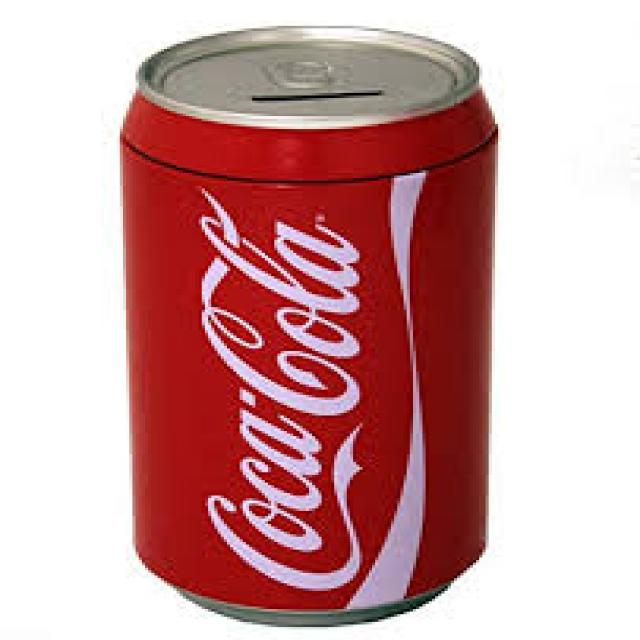metal: (117, 26, 501, 630)
